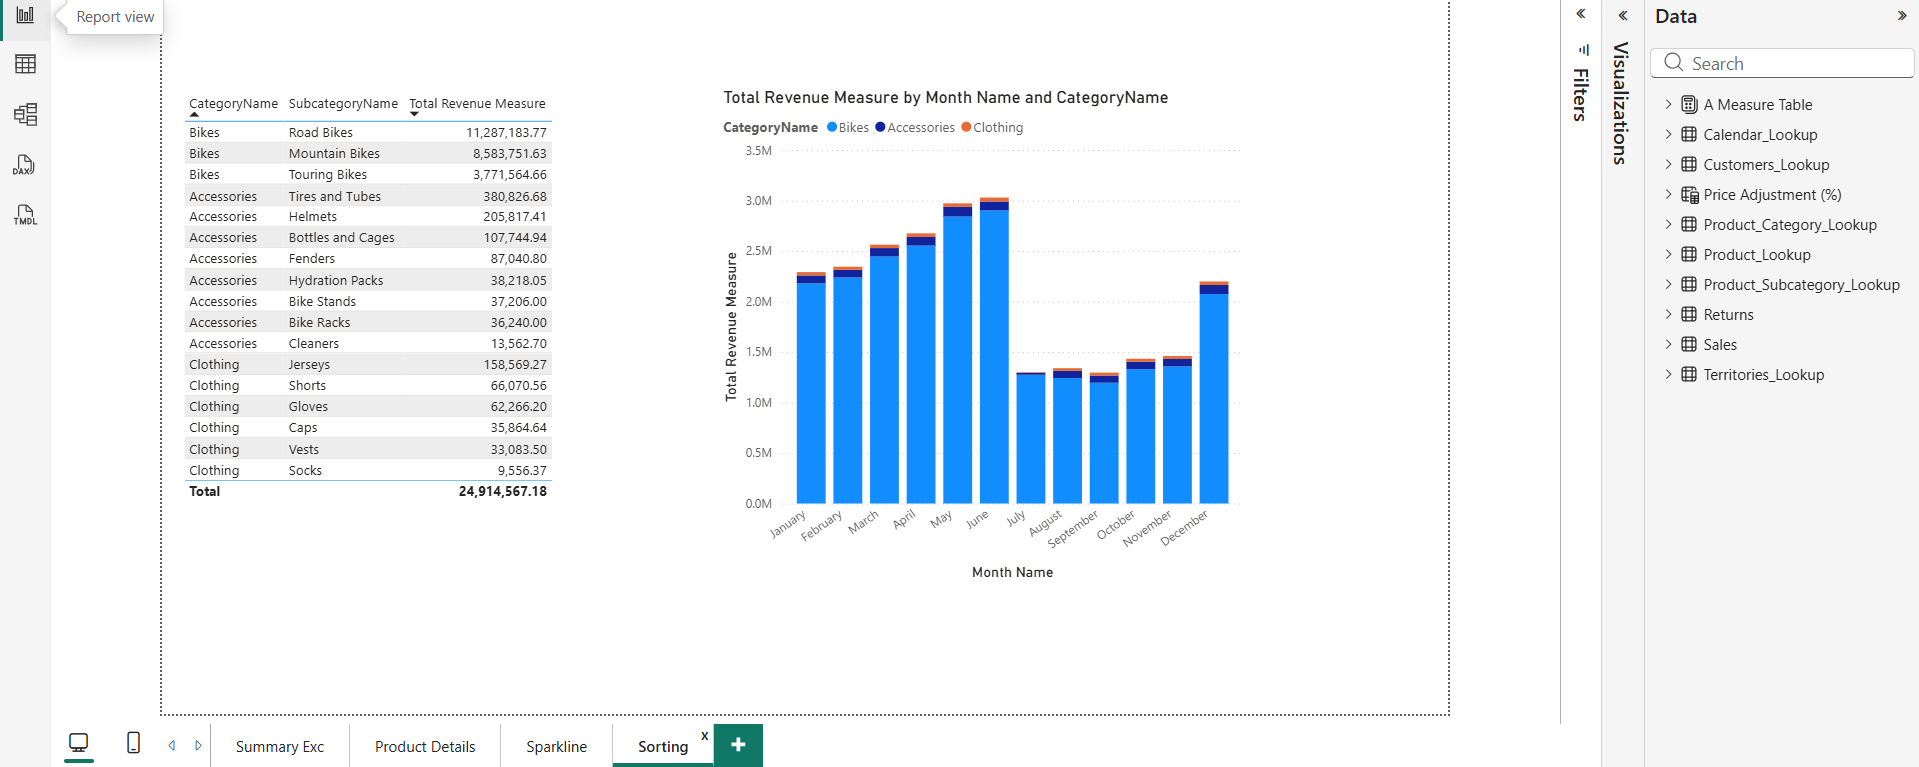

This screenshot's page, from the dashboard's own definition file:
{"tool":"powerbi","page":{"name":"Sorting","canvas":[1280,720],"ordinal":3},"visuals":[{"type":"tableEx","fields":{"Values":["Product_Category_Lookup.CategoryName","Product_Subcategory_Lookup.SubcategoryName","A Measure Table.Total Revenue Measure"]},"box":[16,96,528,496],"z":0},{"type":"columnChart","fields":{"Y":["A Measure Table.Total Revenue Measure"],"Series":["Product_Category_Lookup.CategoryName"],"Category":["Calendar_Lookup.Month Name"]},"box":[554,96,528,496],"z":1000}]}

Visuals, with their boxes on the page's 1280x720 design canvas (x1, y1, x2, y2). These are canvas units, not pixel positions in the 1919x767 screenshot, which may show the page scaled, cropped or inside an application window:
tableEx - Product_Category_Lookup.CategoryName x Product_Subcategory_Lookup.SubcategoryName: (16,96,544,592)
columnChart - A Measure Table.Total Revenue Measure x Product_Category_Lookup.CategoryName: (554,96,1082,592)
